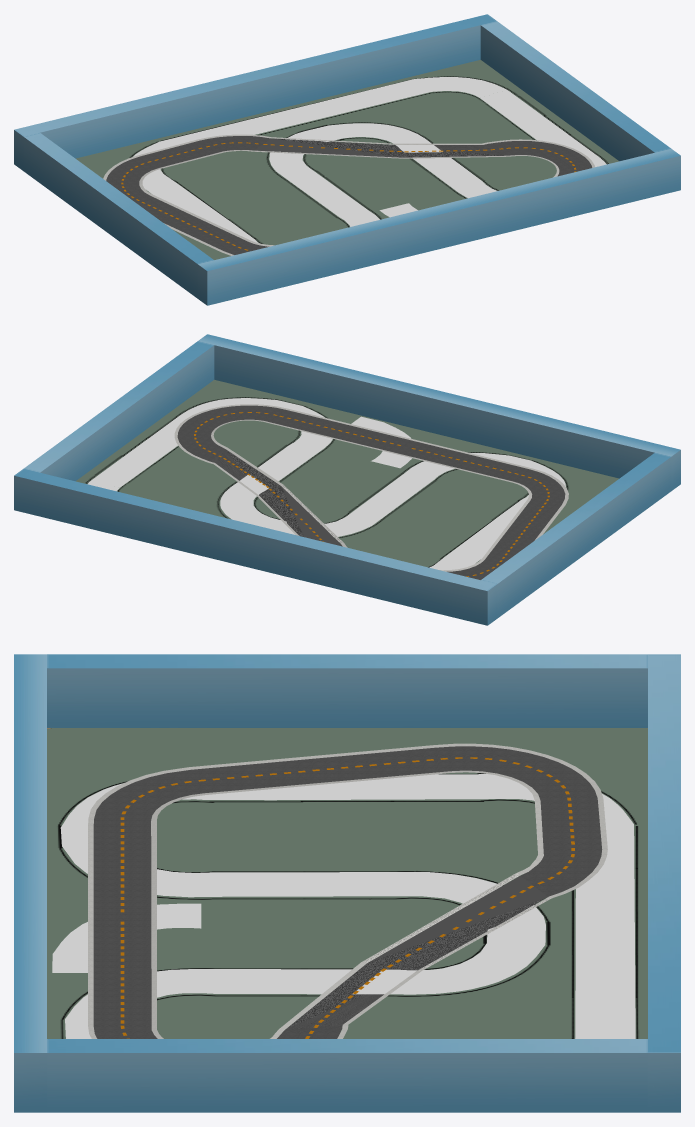
File: f1_track.dae
3 renders of one model, top to bottom at view 1: azimuth 30°, elevation 25°; view 2: azimuth 150°, elevation 25°; view 3: azimuth 270°, elevation 25°, orthographic. The views are drawn at different scales.
Parts seen in each view (by area): view 1: field, bottomWall, topWall, Plane, Track1, leftWall, rightWall, whiteLines, dottedLine; view 2: field, topWall, bottomWall, Plane, Track1, leftWall, rightWall, whiteLines, dottedLine; view 3: field, leftWall, rightWall, Plane, Track1, bottomWall, topWall, whiteLines, dottedLine.
Part boxes in pixels (x1,y1,x2,y2): field: [76, 60, 618, 259]; bottomWall: [197, 148, 680, 305]; topWall: [14, 14, 496, 170]; Plane: [133, 77, 606, 242]; Track1: [106, 136, 592, 254]; leftWall: [23, 132, 213, 298]; rightWall: [480, 21, 670, 161]; whiteLines: [103, 134, 594, 255]; dottedLine: [121, 142, 576, 250]; field: [76, 380, 618, 567]; topWall: [14, 468, 497, 625]; bottomWall: [198, 334, 680, 490]; Plane: [87, 398, 565, 570]; Track1: [177, 405, 565, 579]; leftWall: [481, 452, 671, 618]; rightWall: [24, 341, 214, 481]; whiteLines: [174, 404, 568, 571]; dottedLine: [194, 412, 549, 576]; field: [47, 728, 647, 1038]; leftWall: [47, 654, 647, 727]; rightWall: [47, 1039, 647, 1112]; Plane: [52, 774, 635, 1038]; Track1: [93, 746, 602, 1038]; bottomWall: [14, 654, 46, 1112]; topWall: [648, 654, 680, 1112]; whiteLines: [88, 743, 607, 1038]; dottedLine: [120, 757, 574, 1038].
Size of the model in its own units: 7.17 by 5.07 by 0.5.
6 materials, 5 textured.
